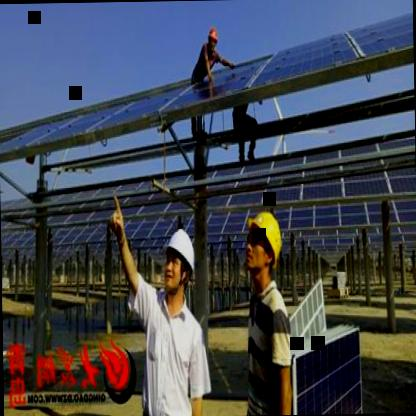helmet: (240, 202, 286, 289), (161, 226, 196, 300), (206, 22, 218, 54)
